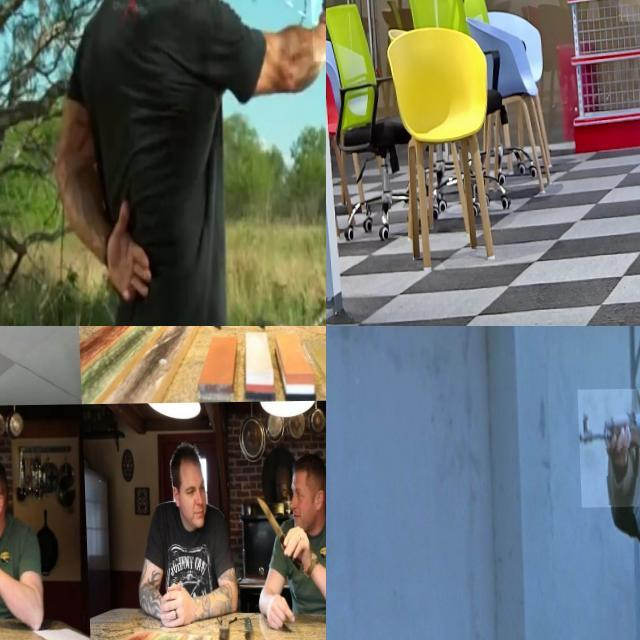-: (251, 488, 297, 558), (0, 326, 108, 346), (0, 491, 23, 562), (228, 326, 257, 346)
gun-knife-thesis - v11 Yolov5 augmented: (576, 389, 640, 508), (308, 0, 326, 62), (614, 0, 640, 29)
